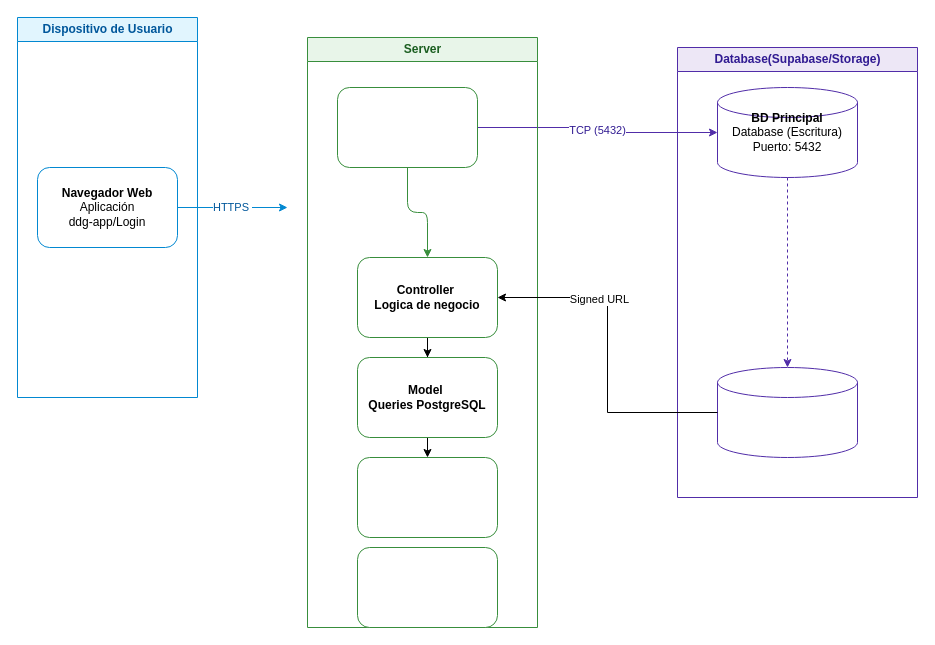
This 935x645 diagram has some shape labels left out. The centre of each missing label's shape, as x and y in pixels:
"Auth/Sesión express-session" belongs at point (427, 587).
"Router Express Routes" belongs at point (407, 127).
"Supabase Storage Bucket Privado - Signed URLS" belongs at point (787, 412).
"View Ejs Render HTML depending action" belongs at point (427, 497).
